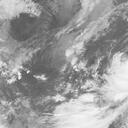cyclone: (34, 28, 98, 90)
